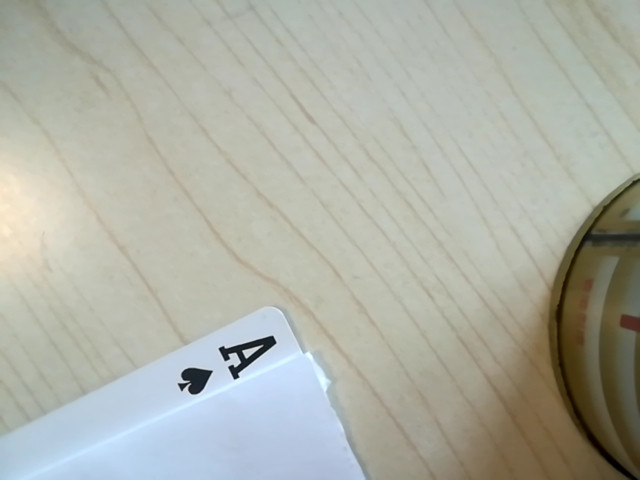ht a: (158, 328, 296, 403)
